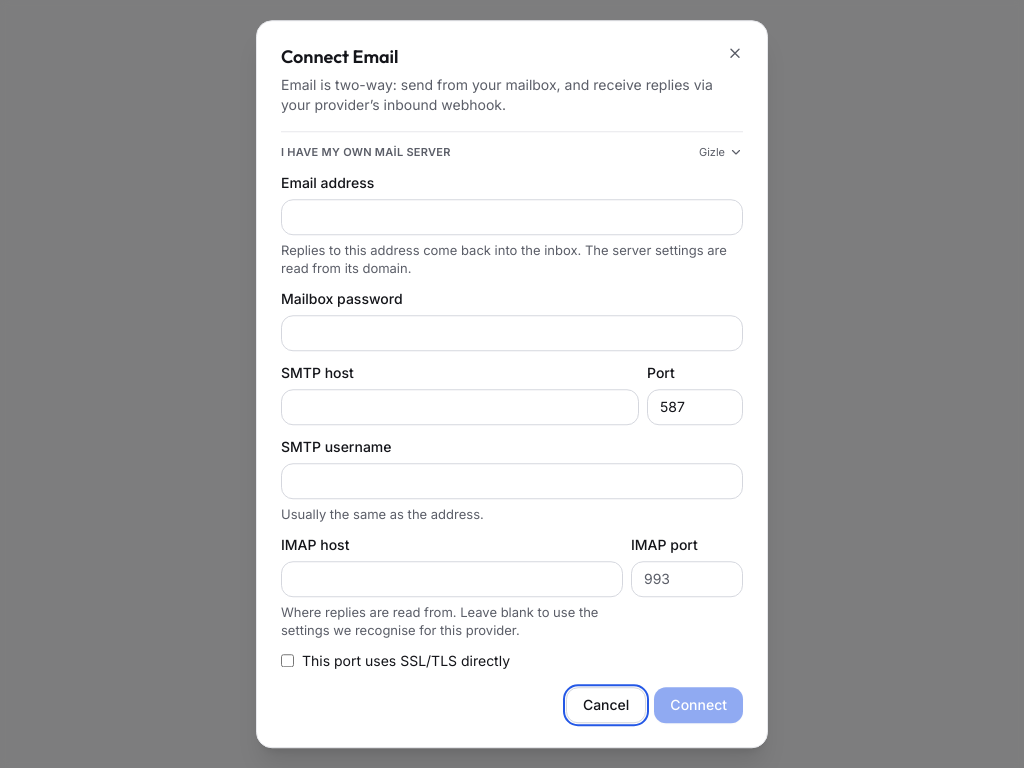
Test: EmailChannelDialog — consent first, password as the fallback › custom SMTP › does not offer consent for a provider this deployment cannot complete
The image size is (1024, 768).
In the field labelled "Email address": (512, 217) [281,199,743,235], type "someone@gmail.com"
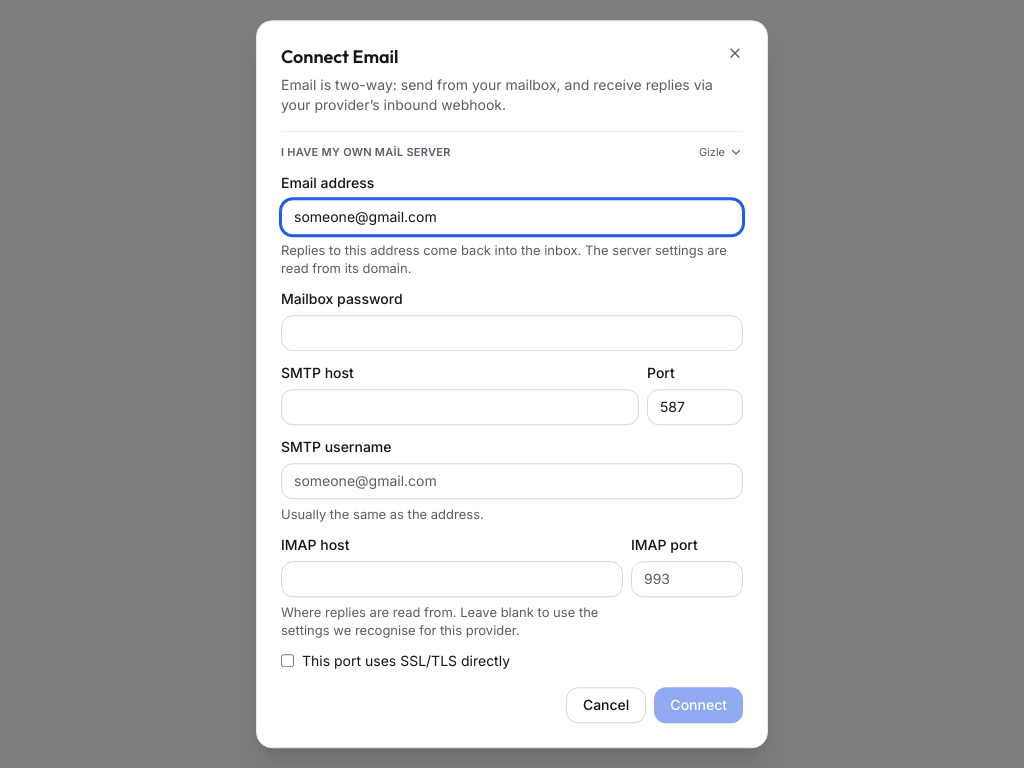
Press Tab
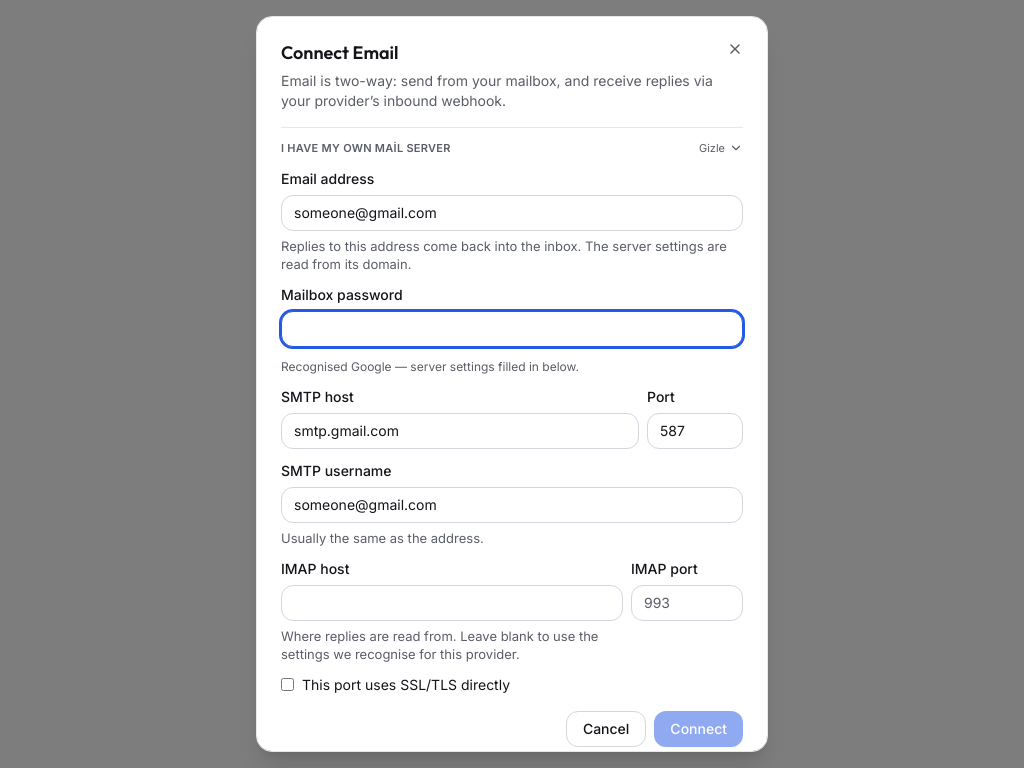
Check: the field labelled "SMTP host" holds "smtp.gmail.com", box [281,412,639,448]
